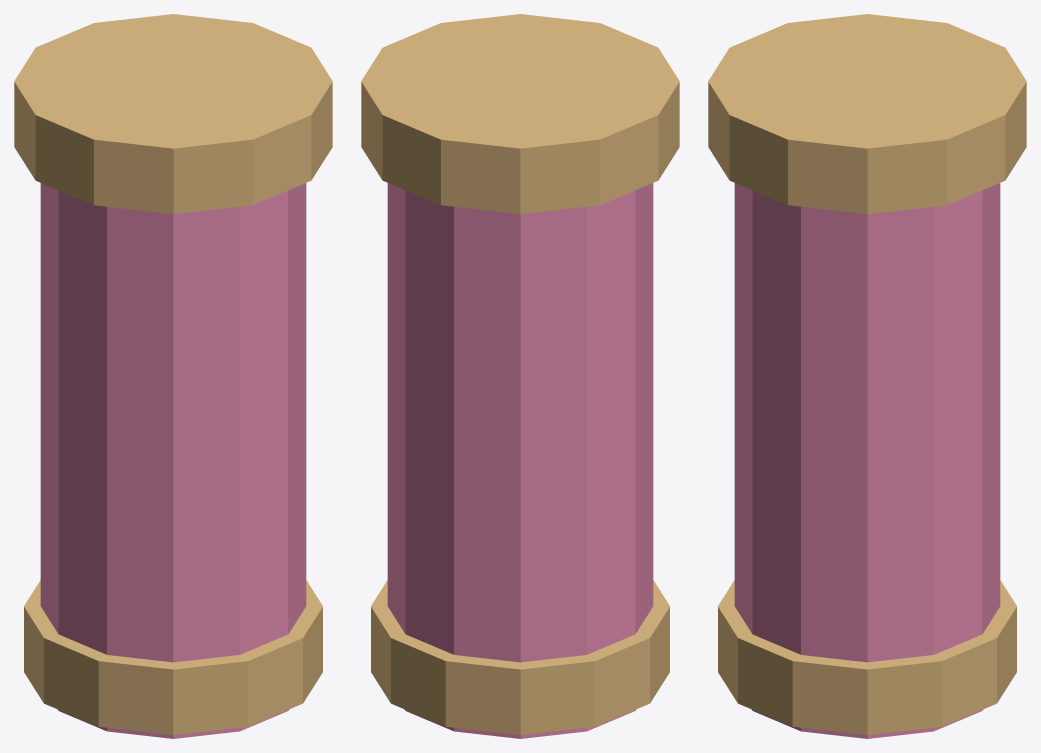
The model's file is Foregrip.obj.
The picture shows the model from 3 angles, left to right: view 1: azimuth 30°, elevation 25°; view 2: azimuth 150°, elevation 25°; view 3: azimuth 270°, elevation 25°; orthographic projection.
Parts seen in each view (by area): view 1: Foregrip_Body, Foregrip_Detail; view 2: Foregrip_Body, Foregrip_Detail; view 3: Foregrip_Body, Foregrip_Detail.
Part boxes in pixels (x1,y1,x2,y2): Foregrip_Body: [40, 183, 306, 738]; Foregrip_Detail: [14, 14, 332, 734]; Foregrip_Body: [387, 183, 653, 738]; Foregrip_Detail: [361, 14, 679, 734]; Foregrip_Body: [734, 183, 1000, 738]; Foregrip_Detail: [708, 14, 1026, 734].
Size of the model in its own units: 0.132 by 0.275 by 0.132.
